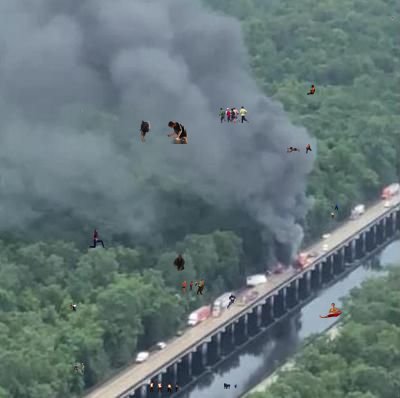Human: (219, 106, 249, 123), (182, 279, 213, 295), (81, 229, 107, 248), (141, 381, 179, 394), (167, 121, 188, 144), (319, 303, 342, 318), (139, 120, 151, 142), (173, 254, 185, 271), (226, 293, 236, 309), (74, 363, 85, 373), (224, 383, 240, 389), (327, 203, 338, 211), (287, 147, 301, 153), (307, 85, 315, 95), (306, 144, 312, 154), (70, 304, 77, 312), (330, 212, 335, 219), (391, 17, 393, 22), (324, 249, 325, 253), (82, 109, 83, 112)
